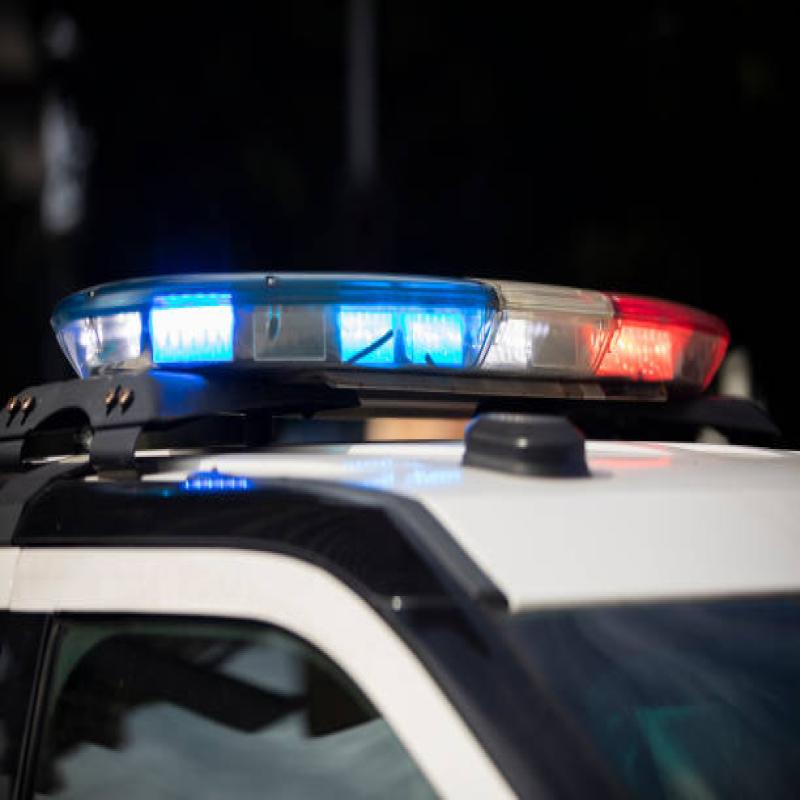AmbulanceSiren: (40, 258, 800, 431)
